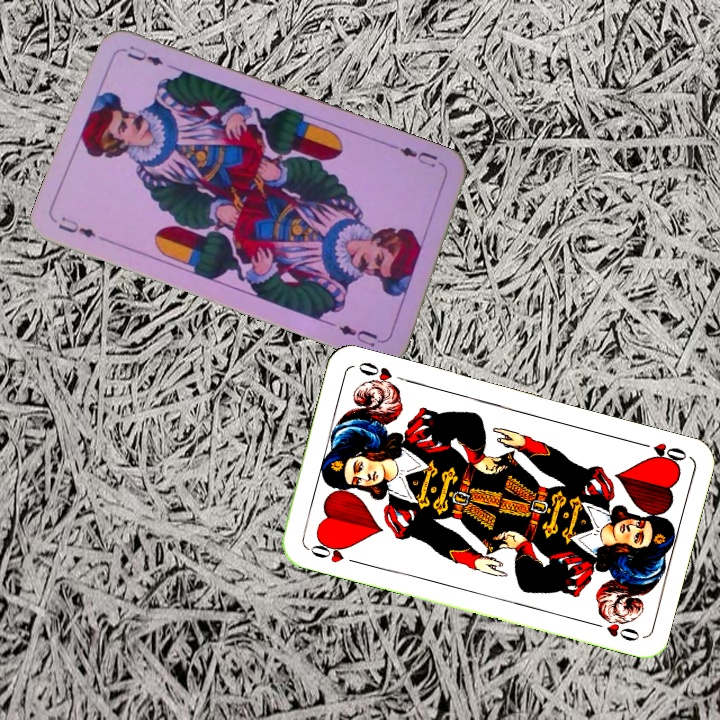EU: (391, 142, 448, 172), (54, 212, 99, 241)
HO: (303, 535, 362, 567), (632, 437, 690, 467)
